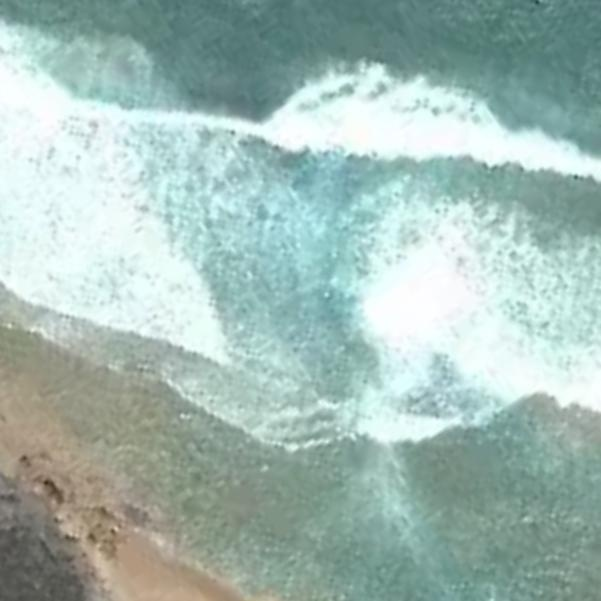rip_current: (138, 71, 416, 453)
